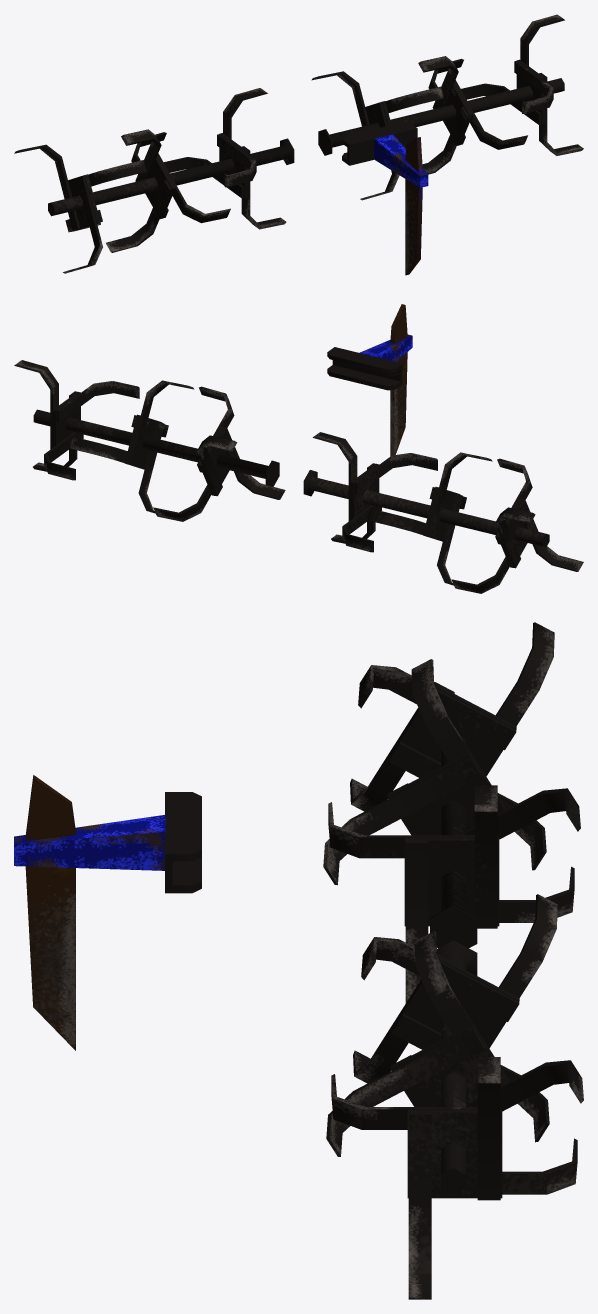
File: Whells 0.fbx
The picture shows the model from 3 angles, top to bottom: view 1: azimuth 30°, elevation 25°; view 2: azimuth 150°, elevation 25°; view 3: azimuth 270°, elevation 25°; orthographic projection. The views are drawn at different scales.
Visible parts, largest first — view 1: Soshnik, Freza_L, Freza_P, noj_17, noj_21, noj_9, noj_5, noj_14, noj_6, noj_18, noj_13, noj_20 (+16 smaller); view 2: Soshnik, Freza_L, Freza_P, noj_9, noj_21, noj, noj_13, noj_6, noj_18, noj_14, noj_2, noj_10 (+17 smaller); view 3: Soshnik, noj_11, noj_20, noj_8, flanec_3, noj_12, noj_24, Freza_L, noj_15, noj_3, flanec_6, Freza_P (+19 smaller).
Boxes of the visible parts, x1,y1,x2,y2 form: Soshnik: (342, 122, 428, 275); Freza_L: (48, 138, 294, 216); Freza_P: (318, 78, 564, 155); noj_17: (106, 180, 171, 252); noj_21: (217, 134, 256, 187); noj_9: (514, 61, 553, 113); noj_5: (422, 106, 468, 174); noj_14: (63, 175, 102, 273); noj_6: (418, 56, 458, 108); noj_18: (121, 129, 161, 181); noj_13: (14, 144, 80, 230); noj_20: (157, 153, 230, 223); Soshnik: (327, 304, 412, 456); Freza_L: (303, 470, 549, 547); Freza_P: (33, 409, 279, 486); noj_9: (56, 381, 139, 422); noj_21: (354, 453, 437, 494); noj: (197, 435, 237, 496); noj_13: (495, 507, 535, 568); noj_6: (128, 380, 194, 466); noj_18: (426, 452, 492, 538); noj_14: (517, 499, 583, 571); noj_2: (219, 427, 285, 499); noj_10: (44, 432, 83, 480); Soshnik: (14, 775, 201, 1050); noj_11: (408, 1112, 431, 1299); noj_20: (323, 756, 481, 885); noj_8: (326, 1028, 484, 1156); flanec_3: (407, 1109, 502, 1198); noj_12: (477, 1057, 500, 1200); noj_24: (474, 785, 497, 928); Freza_L: (430, 735, 477, 948); noj_15: (358, 665, 516, 750); noj_3: (361, 937, 519, 1021); flanec_6: (404, 837, 499, 926); Freza_P: (437, 940, 477, 1193).
Size of the model in its own units: 161 by 45.1 by 80.08.
